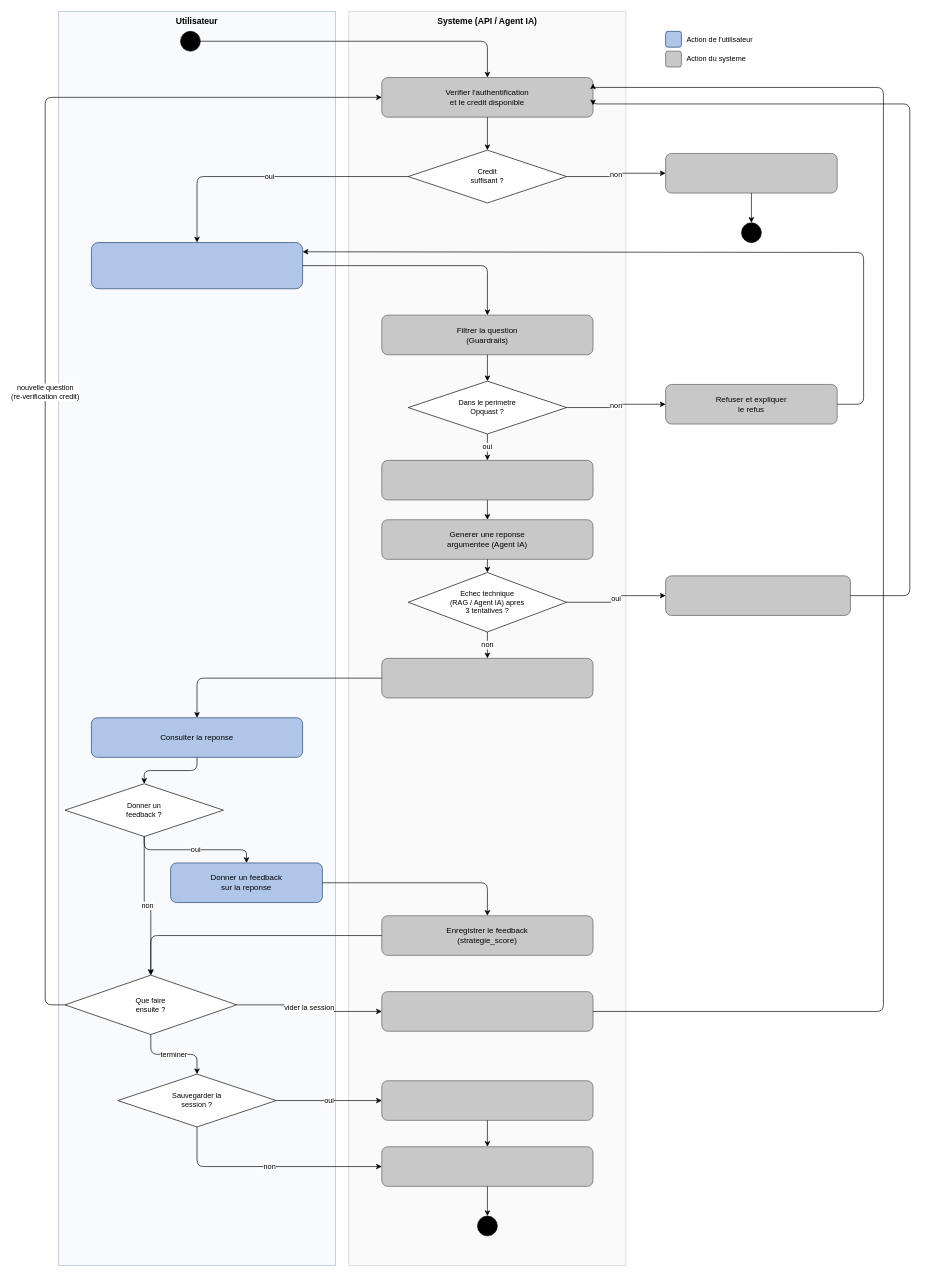
This 927x1277 diagram has some shape labels left out. The shapes that lost their labels are listed below. From the top down, each one's centre as x and y in pixels, then its label:
At (751,173): "Afficher un message (credit insuffisant)".
At (197,265): "Poser une question libre (page soumise ou decrite, optionnel)".
At (487,480): "Rechercher les regles pertinentes (RAG semantique pur)".
At (757,595): "Afficher un bandeau d'erreur en haut de page".
At (487,678): "Mettre a jour le contexte en memoire de session".
At (487,1011): "Reinitialiser la memoire".
At (487,1100): "Sauvegarder la session".
At (487,1166): "Rediriger vers Mes audits".
